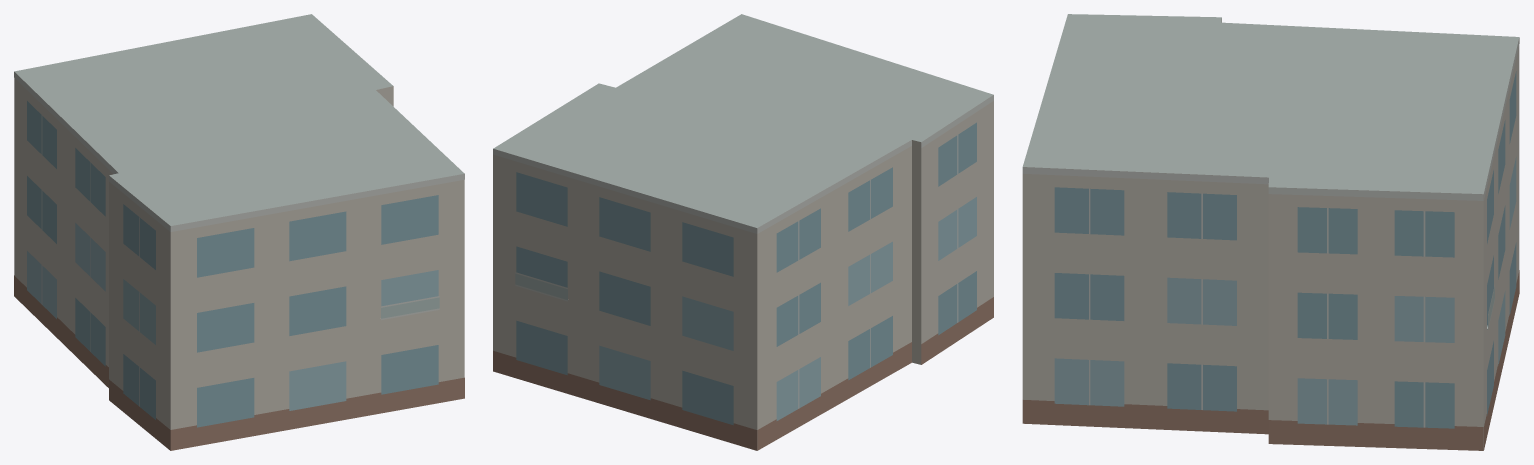
The model's file is survey-upis-32655857.glb.
3 views of the same model, side by side, from view 1: azimuth 30°, elevation 25°; view 2: azimuth 150°, elevation 25°; view 3: azimuth 270°, elevation 25° (orthographic). The views are drawn at different scales.
Parts seen in each view (by area): view 1: survey-upis-32655857.tmp; view 2: survey-upis-32655857.tmp; view 3: survey-upis-32655857.tmp.
Boxes of the visible parts, bbox=[...] form: survey-upis-32655857.tmp: bbox=[14, 14, 464, 450]; survey-upis-32655857.tmp: bbox=[493, 14, 993, 450]; survey-upis-32655857.tmp: bbox=[1022, 14, 1519, 450].
Size of the model in its own units: 13.78 by 9.15 by 16.06.
